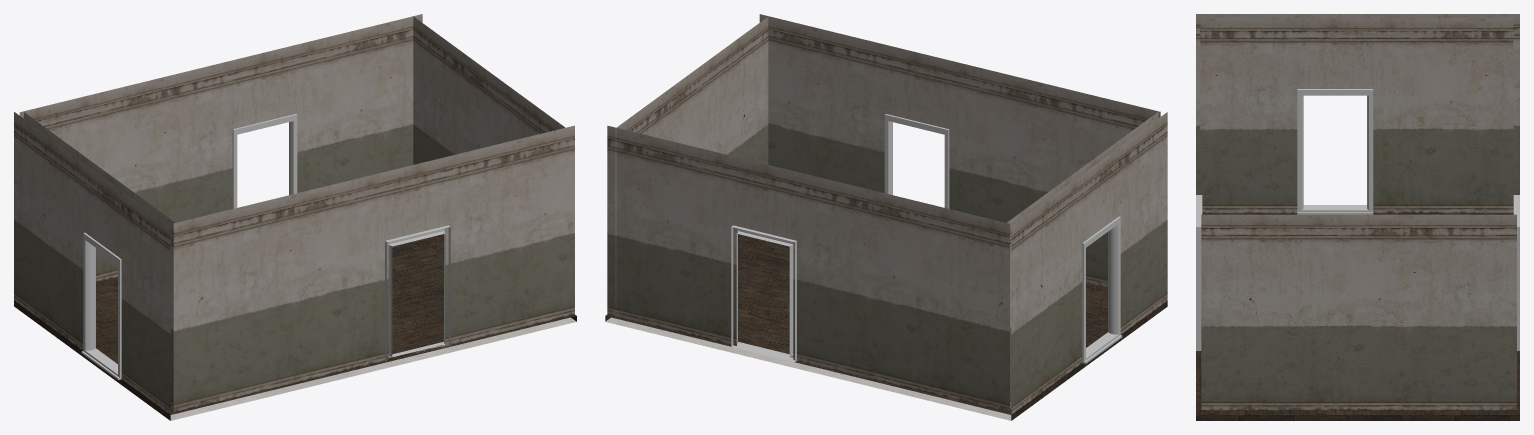
The model's file is room_6m_x_9m_2_doors.fbx.
3 views of the same model, side by side, from view 1: azimuth 30°, elevation 25°; view 2: azimuth 150°, elevation 25°; view 3: azimuth 270°, elevation 25° (orthographic). The views are drawn at different scales.
Visible parts, largest first — view 1: room_6m_x_9m_2_doors; view 2: room_6m_x_9m_2_doors; view 3: room_6m_x_9m_2_doors.
Part boxes in pixels (box(x1,y1,x2,y2)): room_6m_x_9m_2_doors: box(14, 14, 576, 420); room_6m_x_9m_2_doors: box(605, 14, 1167, 420); room_6m_x_9m_2_doors: box(1196, 14, 1519, 420).
Size of the model in its own units: 908 by 412 by 600.
